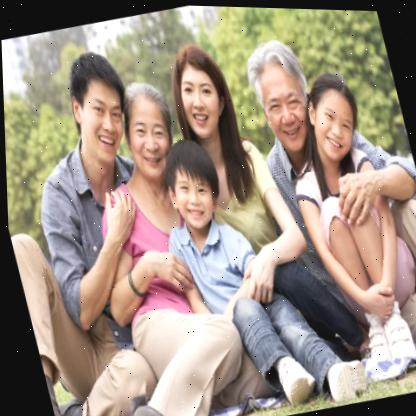person: (55, 40, 137, 178), (240, 31, 324, 164), (158, 27, 240, 147), (158, 136, 232, 245), (110, 77, 179, 183), (300, 73, 371, 165)
